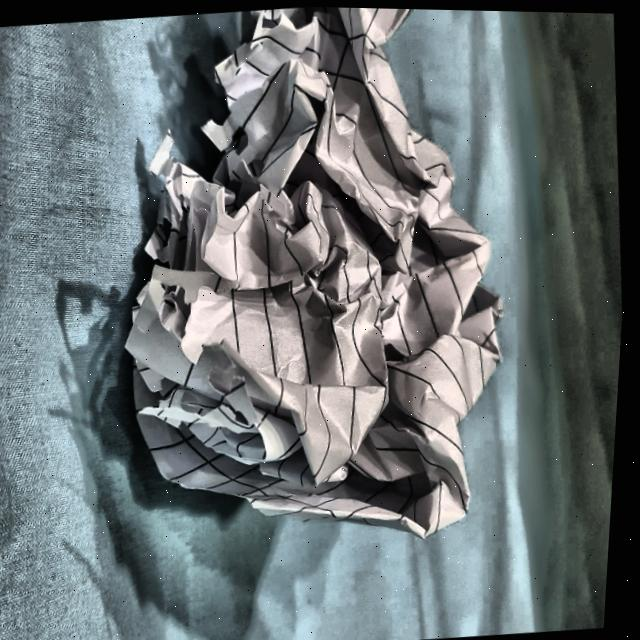paper: (92, 2, 530, 564)
